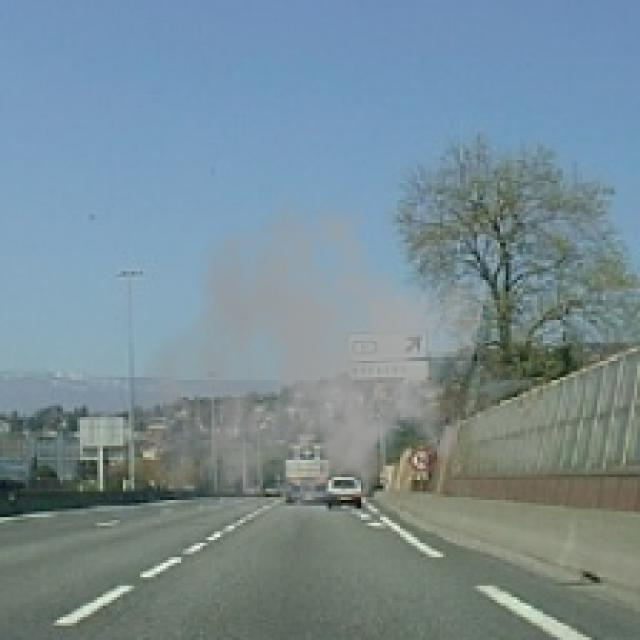Smoke: (132, 185, 488, 560)
